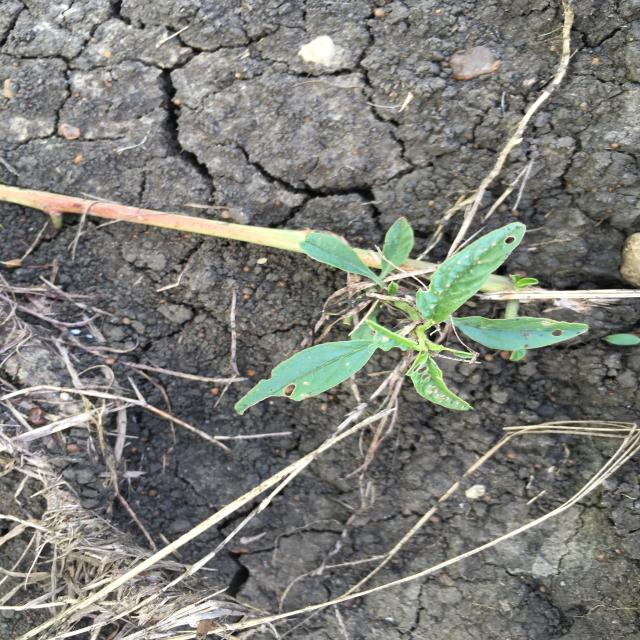Waterhemp: (232, 214, 594, 416)
